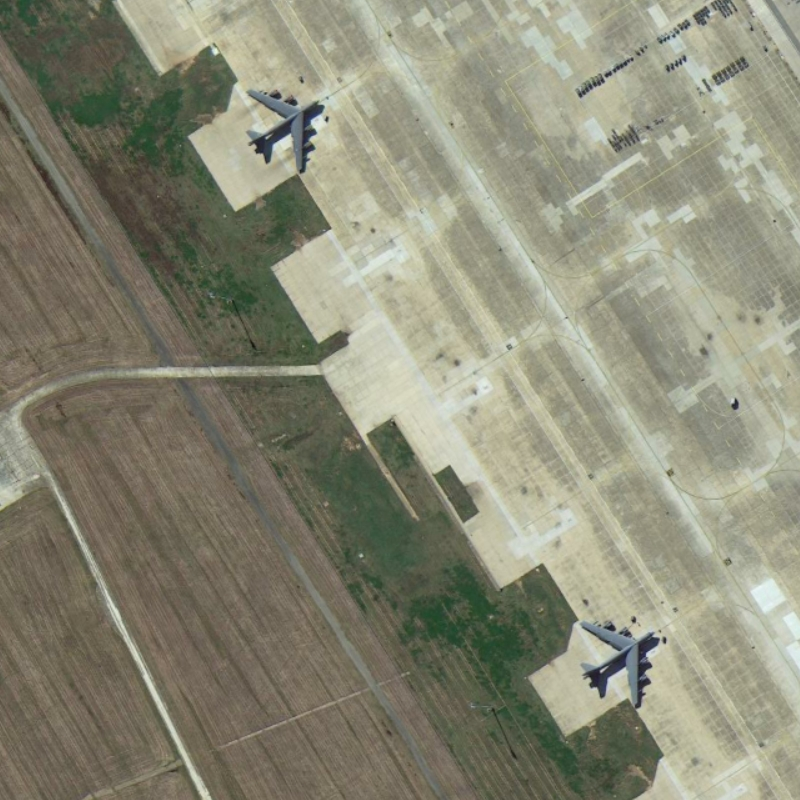A8: (572, 610, 666, 714), (233, 76, 323, 181)
